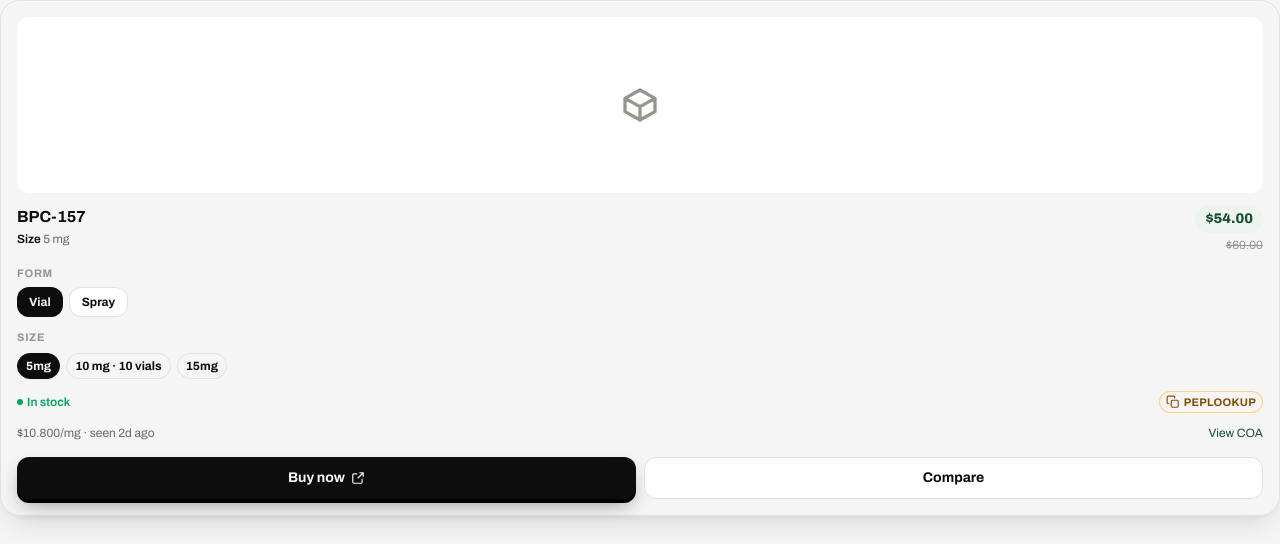
Test: OfferVariantCard › switches price, size, COA and buy link to the chosen option
Click the button "10 mg · 10 vials": (118, 366) [66,353,171,379]
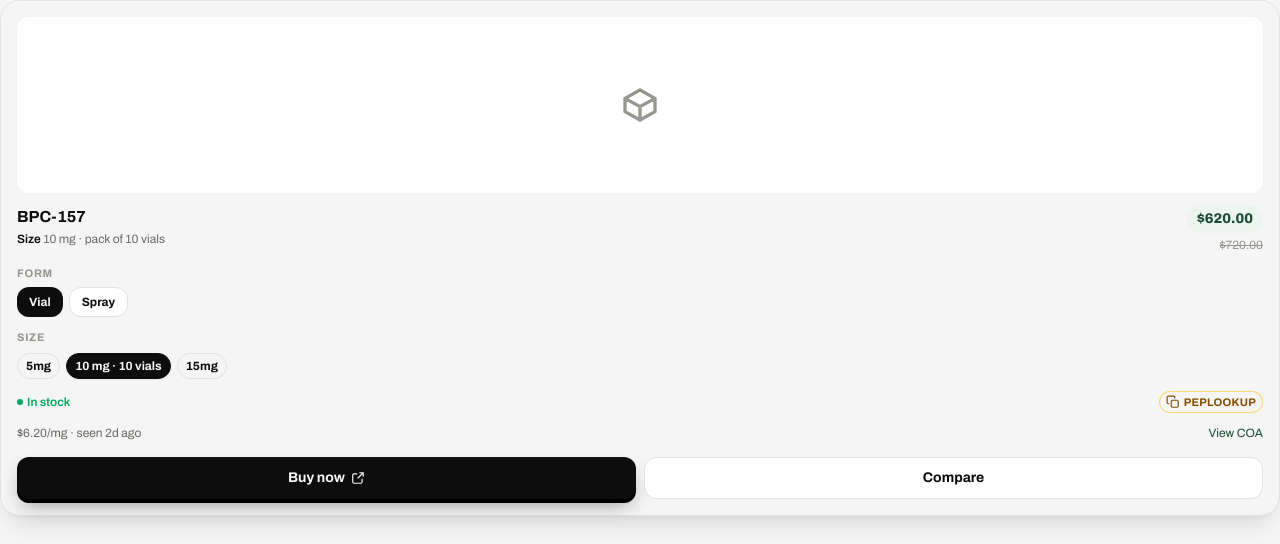
Expected: the text "$620.00" is shown, [1187,205,1263,233]
Expected: the text "$720.00" is shown, [1220,238,1263,252]
Expected: the text "10 mg · pack of 10 vials" is shown, [43,232,165,246]
